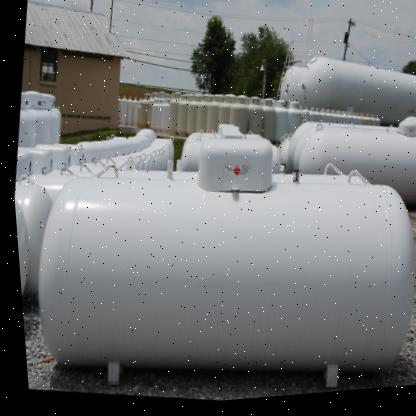gas-tank: (10, 89, 40, 164), (33, 90, 69, 152), (21, 90, 54, 155), (253, 96, 278, 148), (223, 90, 250, 137), (267, 100, 290, 150), (239, 96, 264, 140), (160, 90, 181, 141), (122, 85, 142, 135), (201, 91, 223, 136), (191, 92, 212, 137), (131, 90, 151, 133), (211, 93, 233, 131), (173, 93, 191, 138), (281, 100, 301, 140), (118, 91, 136, 133), (112, 94, 131, 133), (183, 95, 199, 138), (150, 93, 165, 134), (146, 94, 160, 135), (156, 95, 169, 136), (296, 108, 308, 130), (320, 109, 331, 131), (146, 90, 157, 111), (326, 110, 337, 131), (314, 108, 324, 131), (303, 110, 312, 130), (332, 111, 341, 130), (309, 113, 318, 131)
